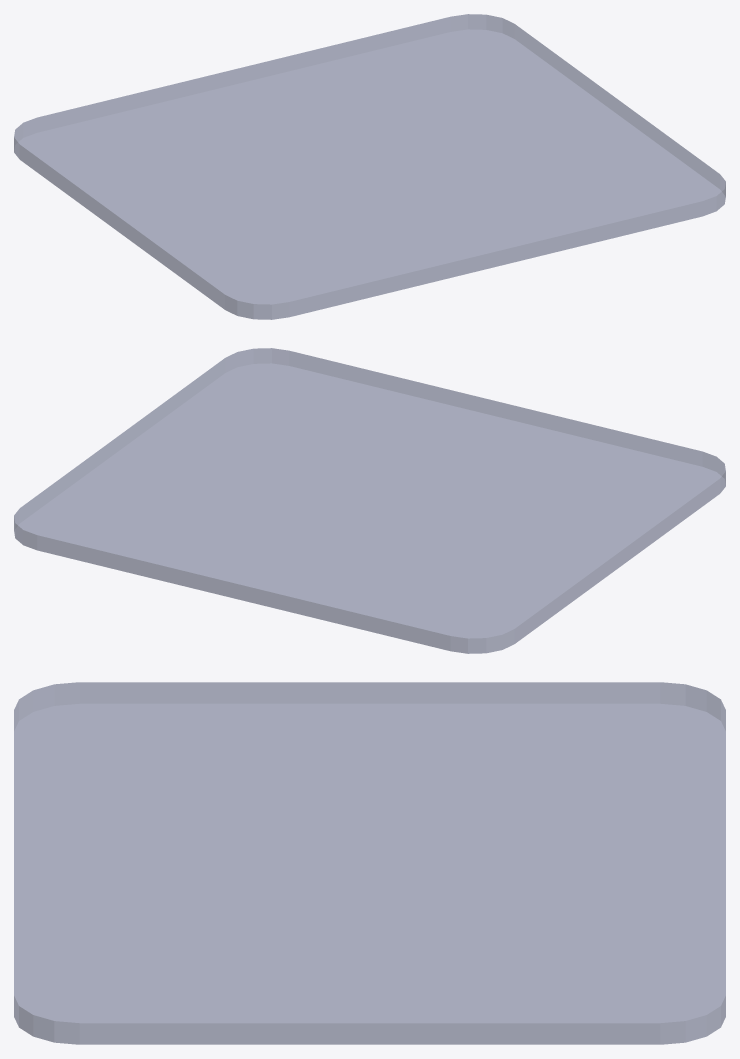
3 renders of one model, top to bottom at view 1: azimuth 30°, elevation 25°; view 2: azimuth 150°, elevation 25°; view 3: azimuth 270°, elevation 25°, orthographic. The views are drawn at different scales.
Visible parts, largest first — view 1: polySurface4; view 2: polySurface4; view 3: polySurface4.
Boxes of the visible parts, x1,y1,x2,y2 form: polySurface4: [14, 14, 725, 319]; polySurface4: [14, 348, 725, 653]; polySurface4: [14, 682, 725, 1044].
Bounding box in the file's own units: 3.39 × 0.1005 × 3.
